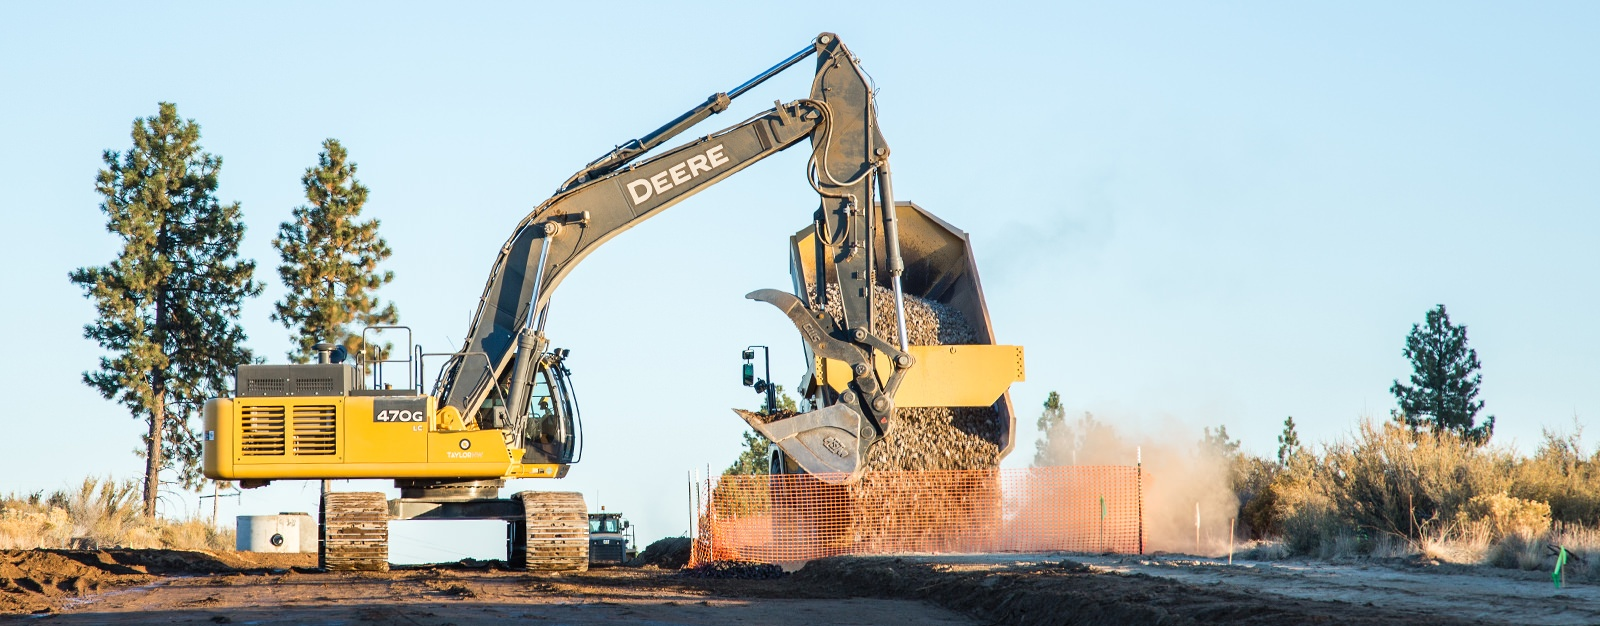backhoe: (187, 29, 910, 591)
